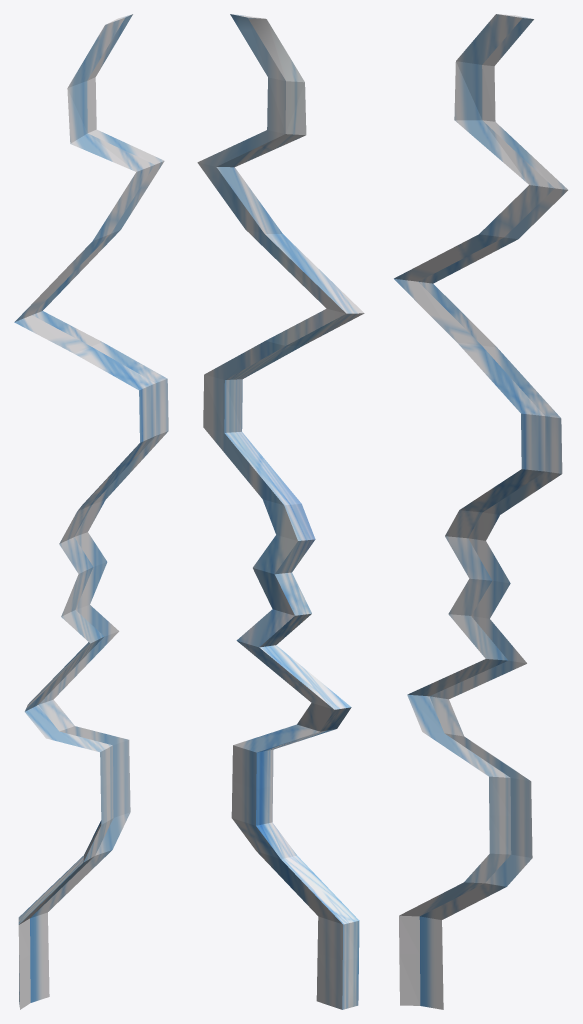
The model's file is lightning.obj.
3 renders of one model, left to right at view 1: azimuth 30°, elevation 25°; view 2: azimuth 150°, elevation 25°; view 3: azimuth 330°, elevation 25°, orthographic. The views are drawn at different scales.
Visible parts, largest first — view 1: Lightning_Cube.001; view 2: Lightning_Cube.001; view 3: Lightning_Cube.001.
Part boxes in pixels (box(x1,y1,x2,y2)): Lightning_Cube.001: box(14, 14, 168, 1009); Lightning_Cube.001: box(197, 14, 364, 1009); Lightning_Cube.001: box(394, 14, 567, 1009).
Size of the model in its own units: 0.301 by 1.75 by 0.048.
Materials: 1 (1 with a texture image).
